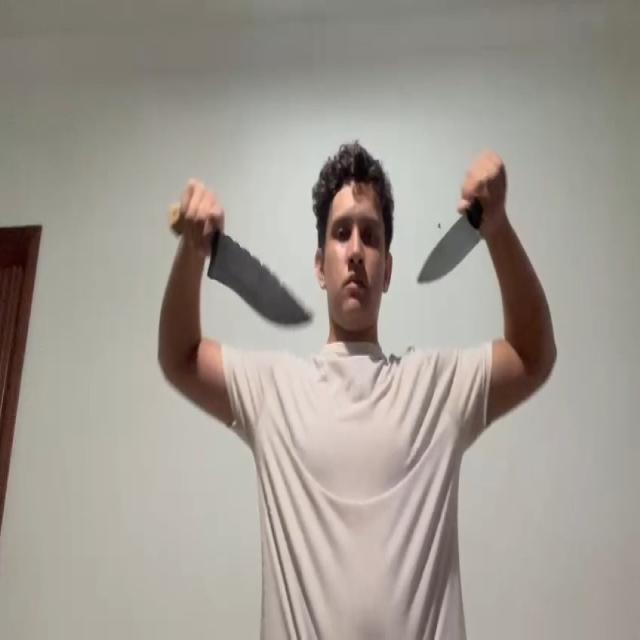knife: (211, 232, 311, 328), (418, 211, 482, 285)
